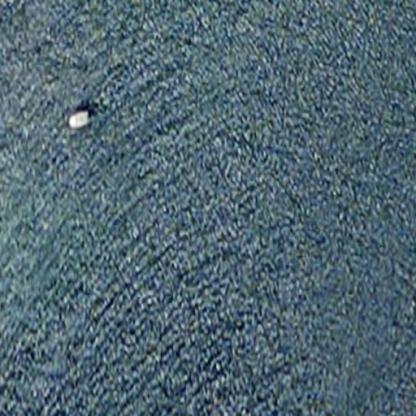ship: (66, 116, 91, 120)
